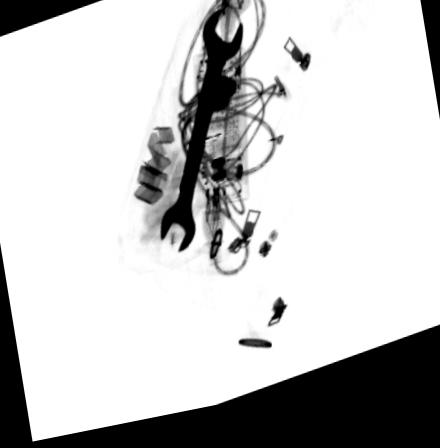Wrench: (159, 14, 244, 262)
